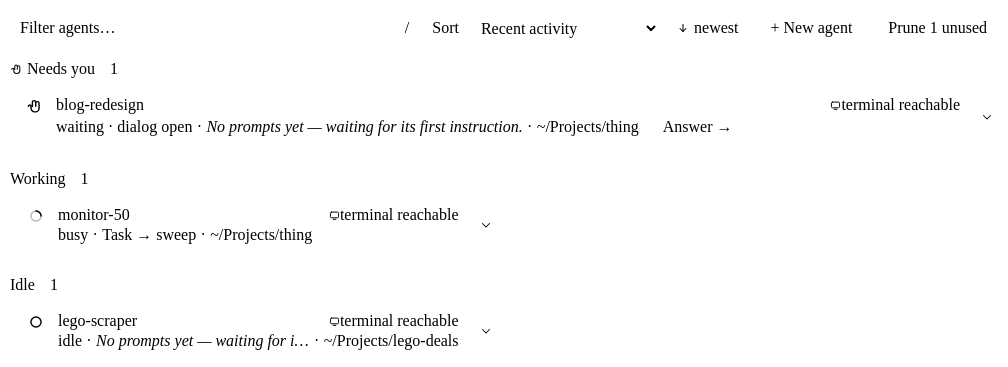
Test: FleetList › explains an empty result rather than showing a blank column
This screenshot has width=1008, height=367.
Type "zzzz" into the search field with test id "search" at point(216, 28), box [8,8,424,48]
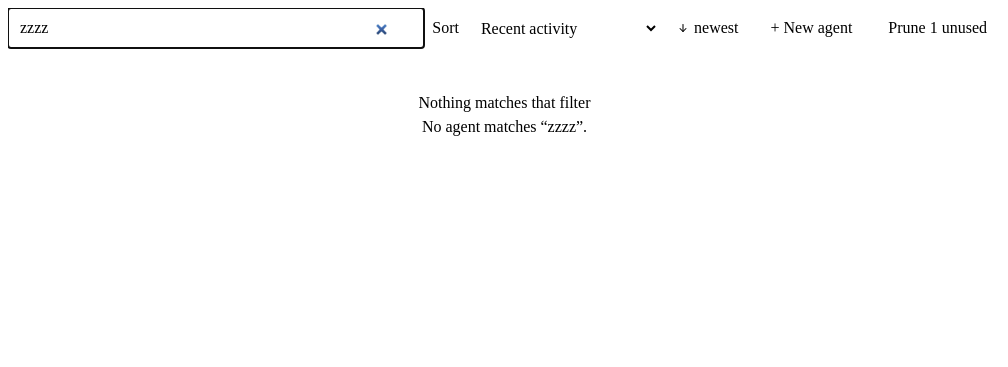
Now the element with test id "empty-state" shows "zzzz", box [422,118,587,135]
